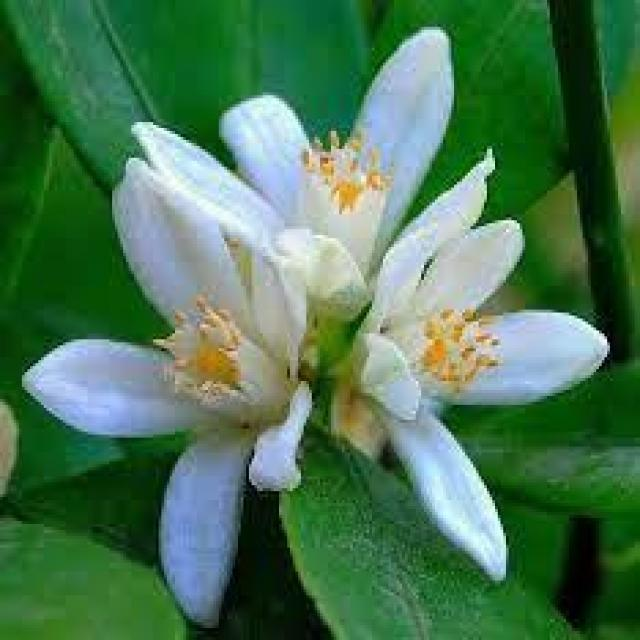Bunga: (279, 148, 613, 580), (22, 154, 314, 632), (131, 30, 495, 322)
